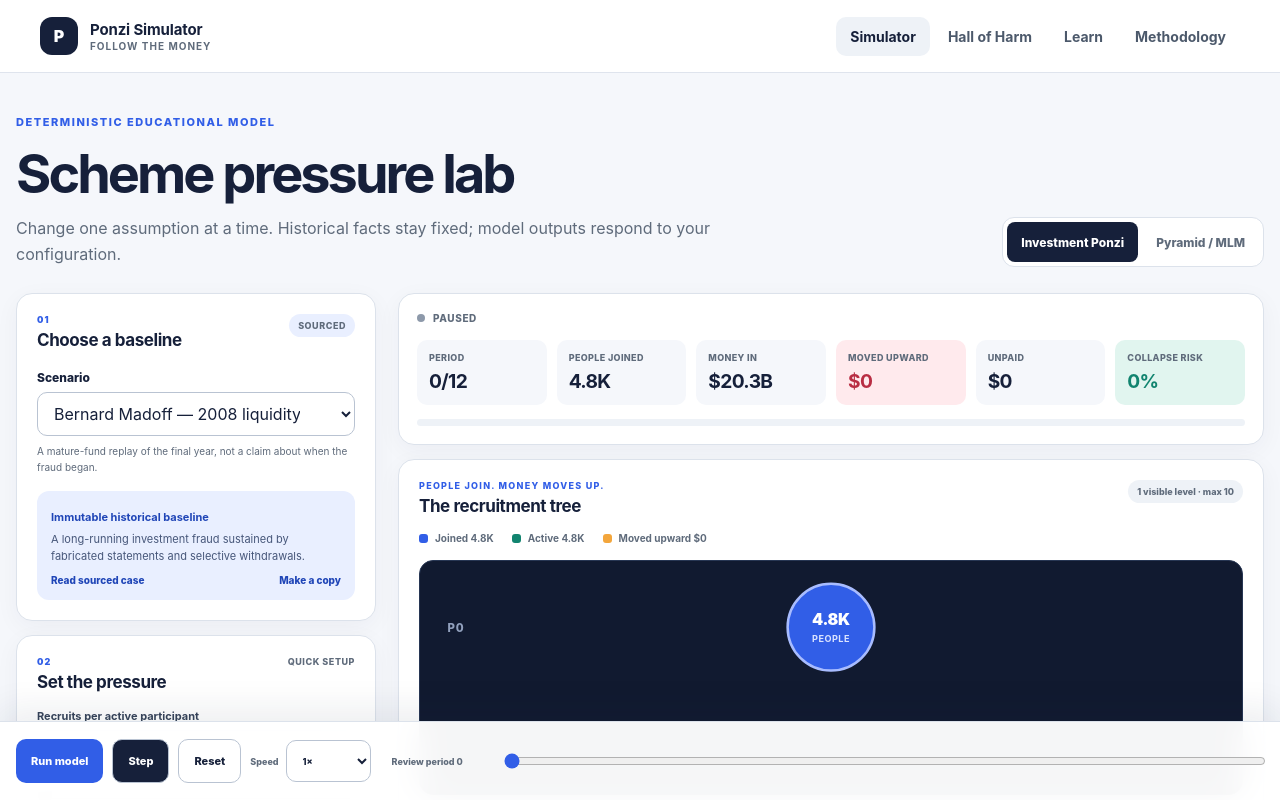
Test: simulator interactions › protects historical baselines and enables a what-if copy
Expected: the text "Immutable historical baseline" is shown, [51, 510, 209, 524]
Click the button "Make a copy".
click(310, 580)  # box [279, 574, 341, 586]
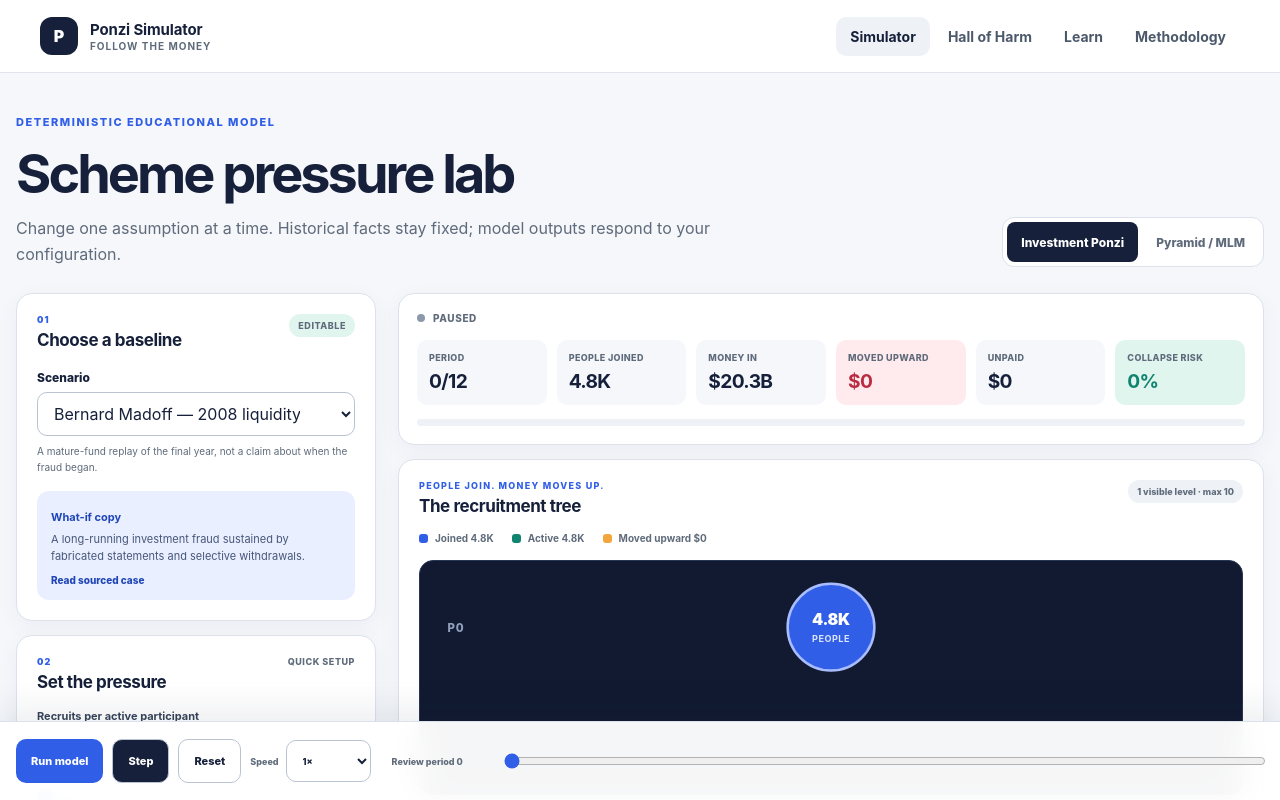
Now the text "What-if copy" is shown, box [51, 510, 121, 524]
